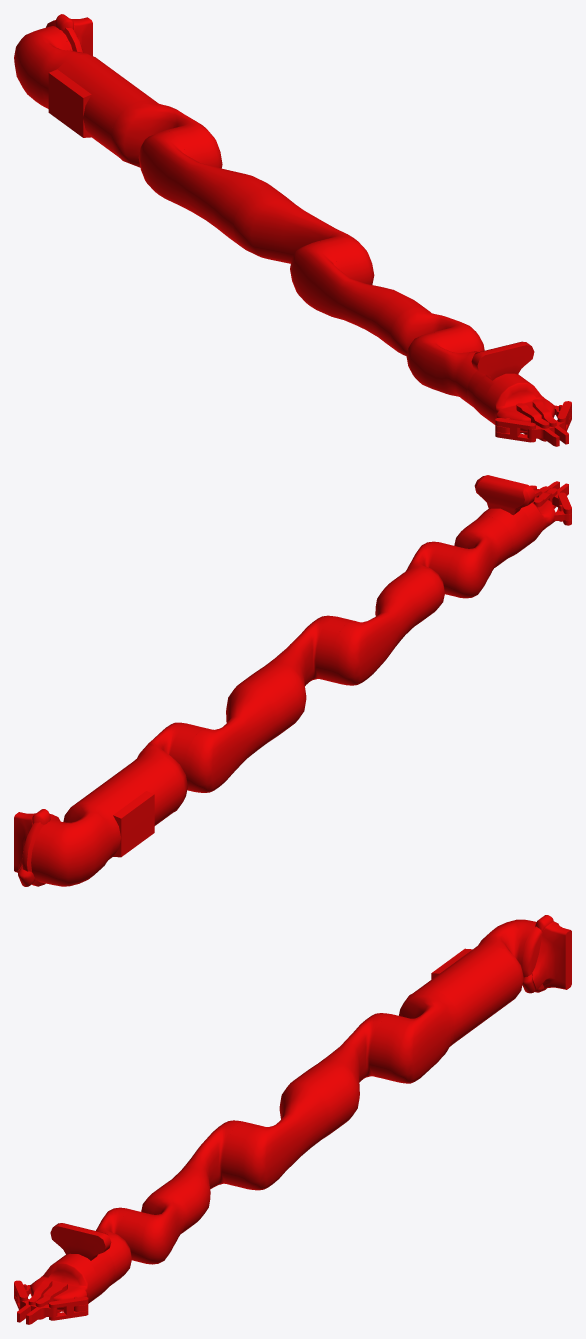
The model's file is robot_arm_v2_grp.fbx.
3 renders of one model, top to bottom at view 1: azimuth 30°, elevation 25°; view 2: azimuth 150°, elevation 25°; view 3: azimuth 330°, elevation 25°, orthographic. The views are drawn at different scales.
Parts seen in each view (by area): view 1: robot_arm_shoulder_3, robot_arm_elbow_1, robot_arm_elbow_2, robot_arm_shoulder_1, robot_arm_shoulder_2, robot_arm_root, robot_arm_wrist_2, robot_arm_wrist_1, robot_arm_wrist_3, robot_arm_hand_1, robot_arm_finger_r_4; view 2: robot_arm_shoulder_3, robot_arm_root, robot_arm_elbow_2, robot_arm_shoulder_1, robot_arm_wrist_2, robot_arm_elbow_1, robot_arm_wrist_3, robot_arm_shoulder_2, robot_arm_wrist_1, robot_arm_hand_1; view 3: robot_arm_elbow_1, robot_arm_shoulder_2, robot_arm_shoulder_1, robot_arm_root, robot_arm_wrist_1, robot_arm_shoulder_3, robot_arm_elbow_2, robot_arm_wrist_3, robot_arm_hand_1, robot_arm_wrist_2, robot_arm_finger_l_4.
Boxes of the visible parts, x1,y1,x2,y2 form: robot_arm_shoulder_3: (138, 130, 281, 246); robot_arm_elbow_1: (233, 190, 374, 284); robot_arm_elbow_2: (290, 241, 427, 350); robot_arm_shoulder_1: (48, 55, 158, 156); robot_arm_shoulder_2: (110, 100, 222, 168); robot_arm_root: (14, 14, 97, 108); robot_arm_wrist_2: (406, 332, 478, 406); robot_arm_wrist_1: (390, 307, 484, 356); robot_arm_wrist_3: (466, 341, 534, 420); robot_arm_hand_1: (484, 375, 555, 432); robot_arm_finger_r_4: (495, 418, 535, 442); robot_arm_shoulder_3: (184, 670, 299, 792); robot_arm_root: (14, 801, 120, 886); robot_arm_elbow_2: (331, 570, 438, 685); robot_arm_shoulder_1: (74, 757, 180, 857); robot_arm_wrist_2: (445, 516, 512, 598); robot_arm_elbow_1: (253, 615, 352, 724); robot_arm_wrist_3: (474, 475, 535, 558); robot_arm_shoulder_2: (133, 722, 205, 812); robot_arm_wrist_1: (403, 541, 461, 612); robot_arm_hand_1: (521, 497, 555, 546); robot_arm_elbow_1: (222, 1076, 341, 1190); robot_arm_shoulder_2: (369, 989, 460, 1083); robot_arm_shoulder_1: (414, 945, 520, 1043); robot_arm_root: (474, 915, 571, 999); robot_arm_wrist_1: (117, 1189, 189, 1264); robot_arm_shoulder_3: (295, 1013, 391, 1130); robot_arm_elbow_2: (154, 1120, 243, 1231); robot_arm_wrist_3: (50, 1223, 115, 1299); robot_arm_hand_1: (30, 1255, 99, 1310); robot_arm_wrist_2: (96, 1207, 132, 1285); robot_arm_finger_l_4: (49, 1297, 88, 1320).
Size of the model in its own units: 13.3 by 12.79 by 149.
